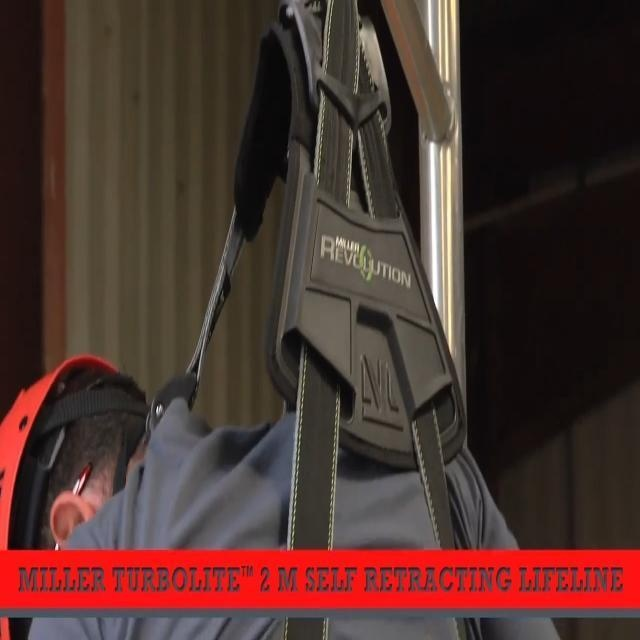Arnes_seguridad: (129, 0, 479, 640)
